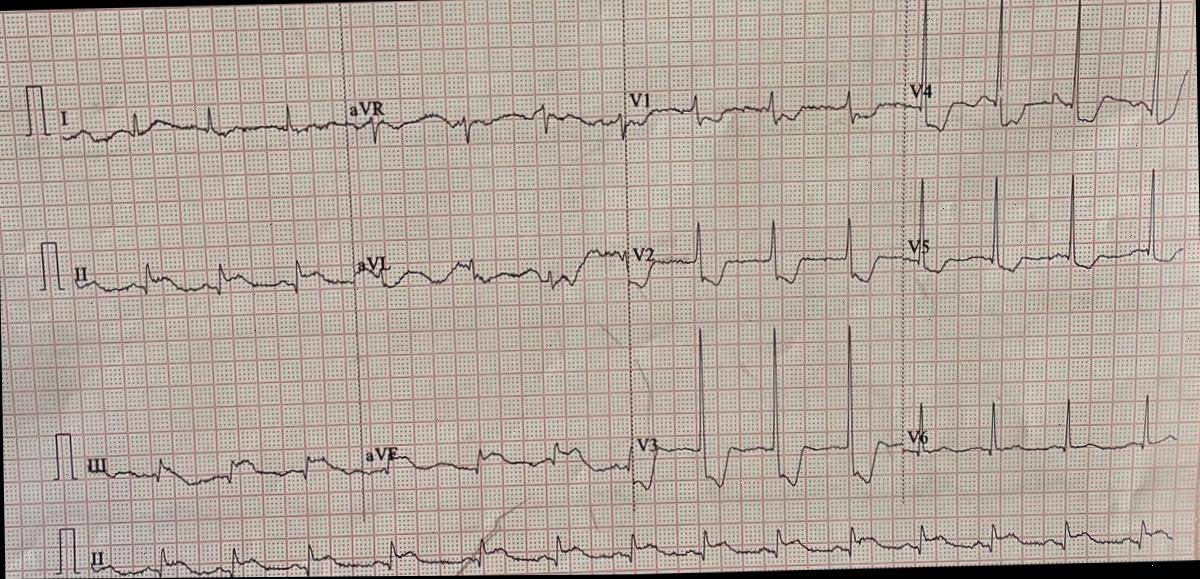Lead_I: (50, 90, 348, 176)
Lead_II: (61, 233, 355, 327)
Lead_III: (80, 428, 362, 500)
Lead_II_ext: (78, 497, 1176, 579)
Lead_V1: (624, 61, 892, 157)
Lead_V2: (626, 201, 904, 312)
Lead_V3: (630, 309, 904, 502)
Lead_V4: (898, 0, 1197, 161)
Lead_V5: (904, 149, 1190, 302)
Lead_V6: (901, 373, 1182, 478)
Lead_aVF: (358, 420, 632, 500)
Lead_aVL: (353, 224, 624, 308)
Lead_aVR: (347, 84, 625, 160)
